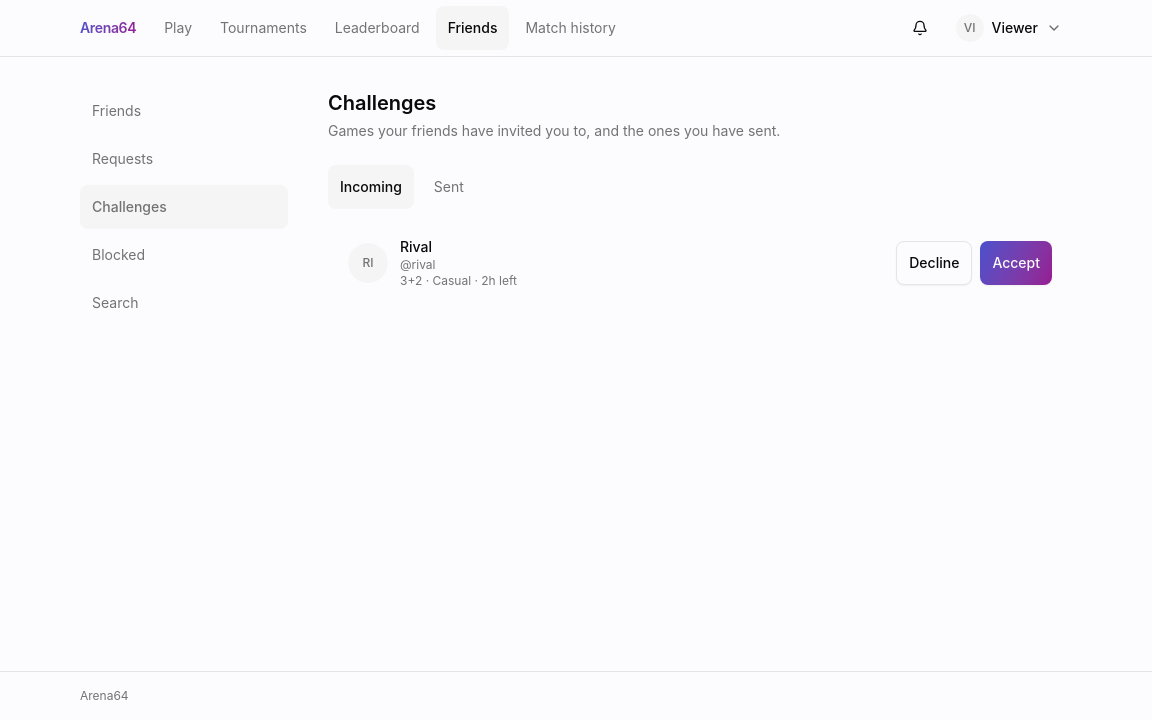
Scenario: waits for the opponent when they have not taken their seat
Click the button with aria-label "accept the challenge from rival" at (1016, 263), box [980, 241, 1052, 285]
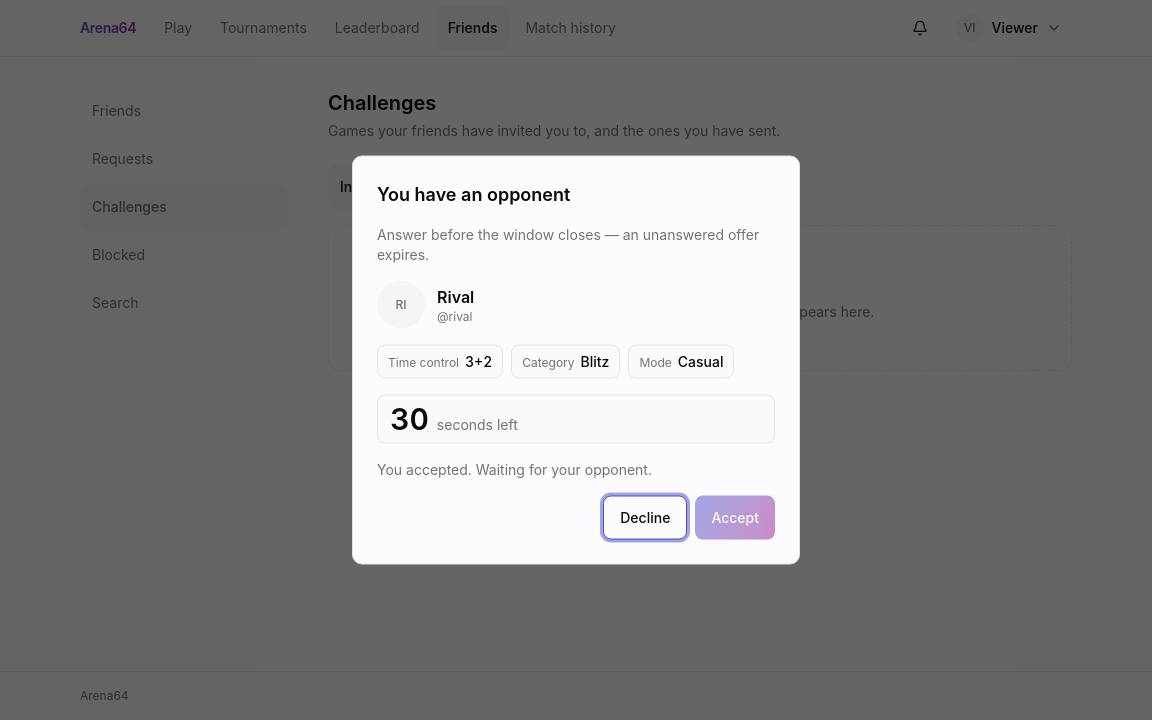
Expected: the dialog is shown, [352, 156, 800, 564]
